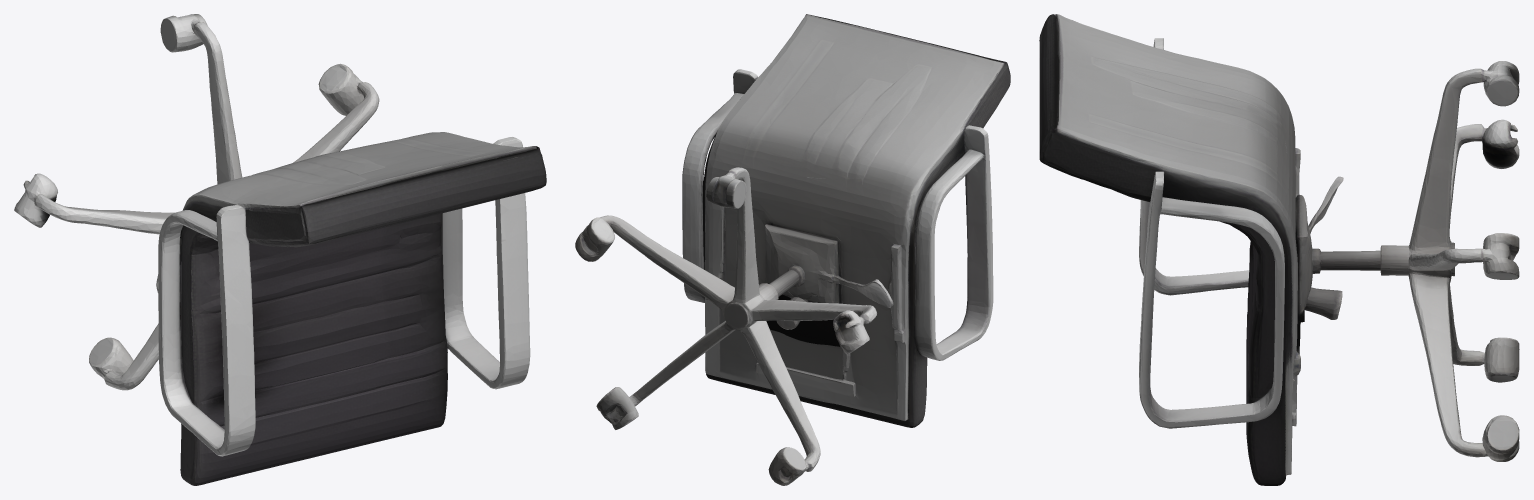
File: TRELLIS_postpipe_orient_08_swap_y_z_flip_both.glb
The picture shows the model from 3 angles, left to right: view 1: azimuth 30°, elevation 25°; view 2: azimuth 150°, elevation 25°; view 3: azimuth 270°, elevation 25°; orthographic projection. The views are drawn at different scales.
Parts seen in each view (by area): view 1: world; view 2: world; view 3: world.
Part boxes in pixels (left/top/right/bottom): world: left=14, top=14, right=546, bottom=485; world: left=575, top=14, right=1010, bottom=485; world: left=1039, top=14, right=1519, bottom=485.
Size of the model in its own units: 0.5838 by 0.5776 by 0.701.
1 material, 1 textured.
